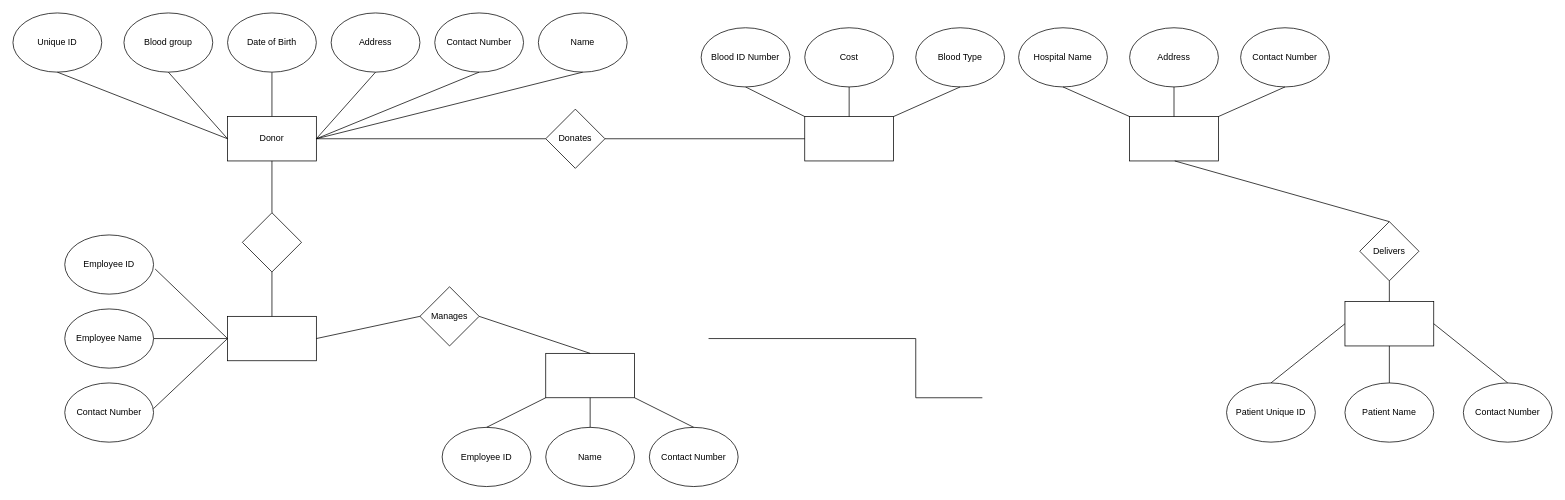
Image size: 1565x500. Some labels were removed from this diagram. Here are the shapes that lost their labels. From the top down, the centre of each, then its label:
pixel 849 138: Blood
pixel 1173 138: Hospital
pixel 272 242: Registers
pixel 271 338: Receptionist
pixel 1389 323: Patient
pixel 590 375: Blood Bank Manager
